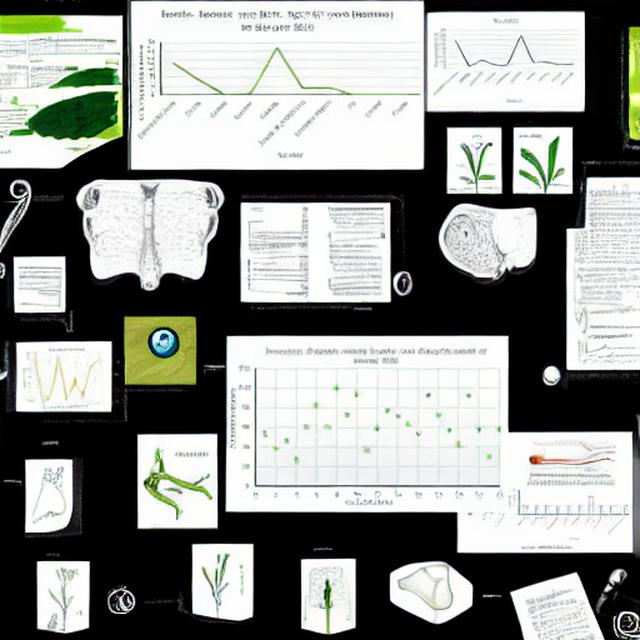Graph: (135, 3, 423, 166), (228, 343, 505, 510), (428, 14, 584, 109), (505, 470, 631, 543), (20, 343, 111, 411), (579, 333, 640, 369)
